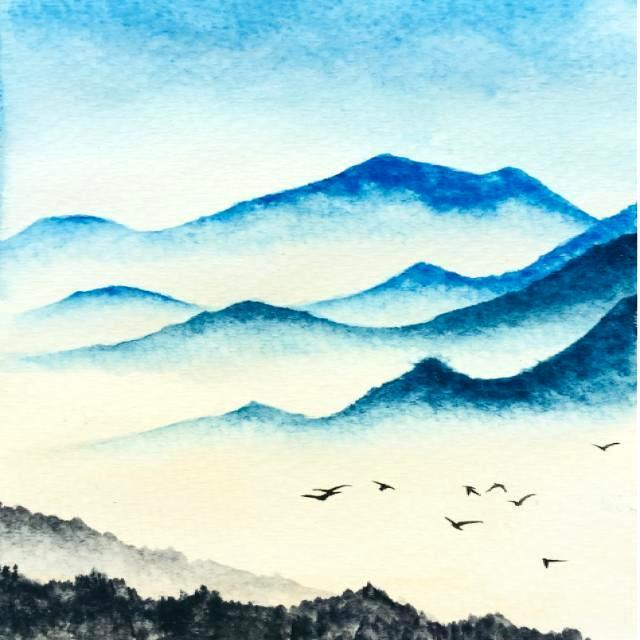bird: (436, 512, 486, 533), (530, 552, 569, 571), (502, 494, 541, 509), (587, 437, 621, 454), (369, 480, 410, 492), (310, 481, 351, 493), (294, 493, 344, 501), (484, 480, 510, 494), (463, 485, 485, 498)
